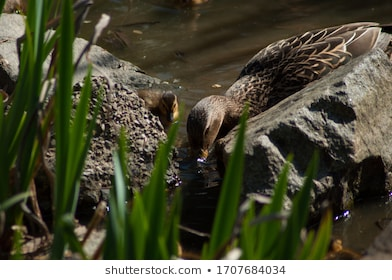duck: (181, 17, 386, 170)
